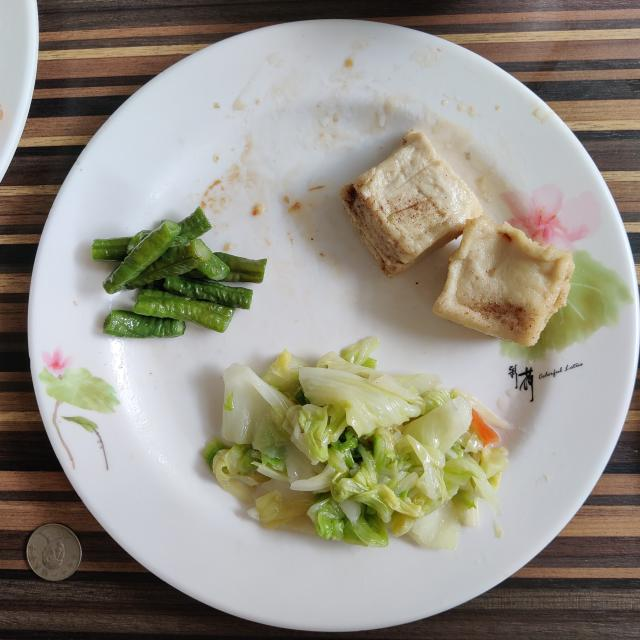cabbage: (202, 336, 510, 549)
coin: (26, 524, 81, 581)
creamy tofu -without sauce-: (340, 130, 574, 346)
